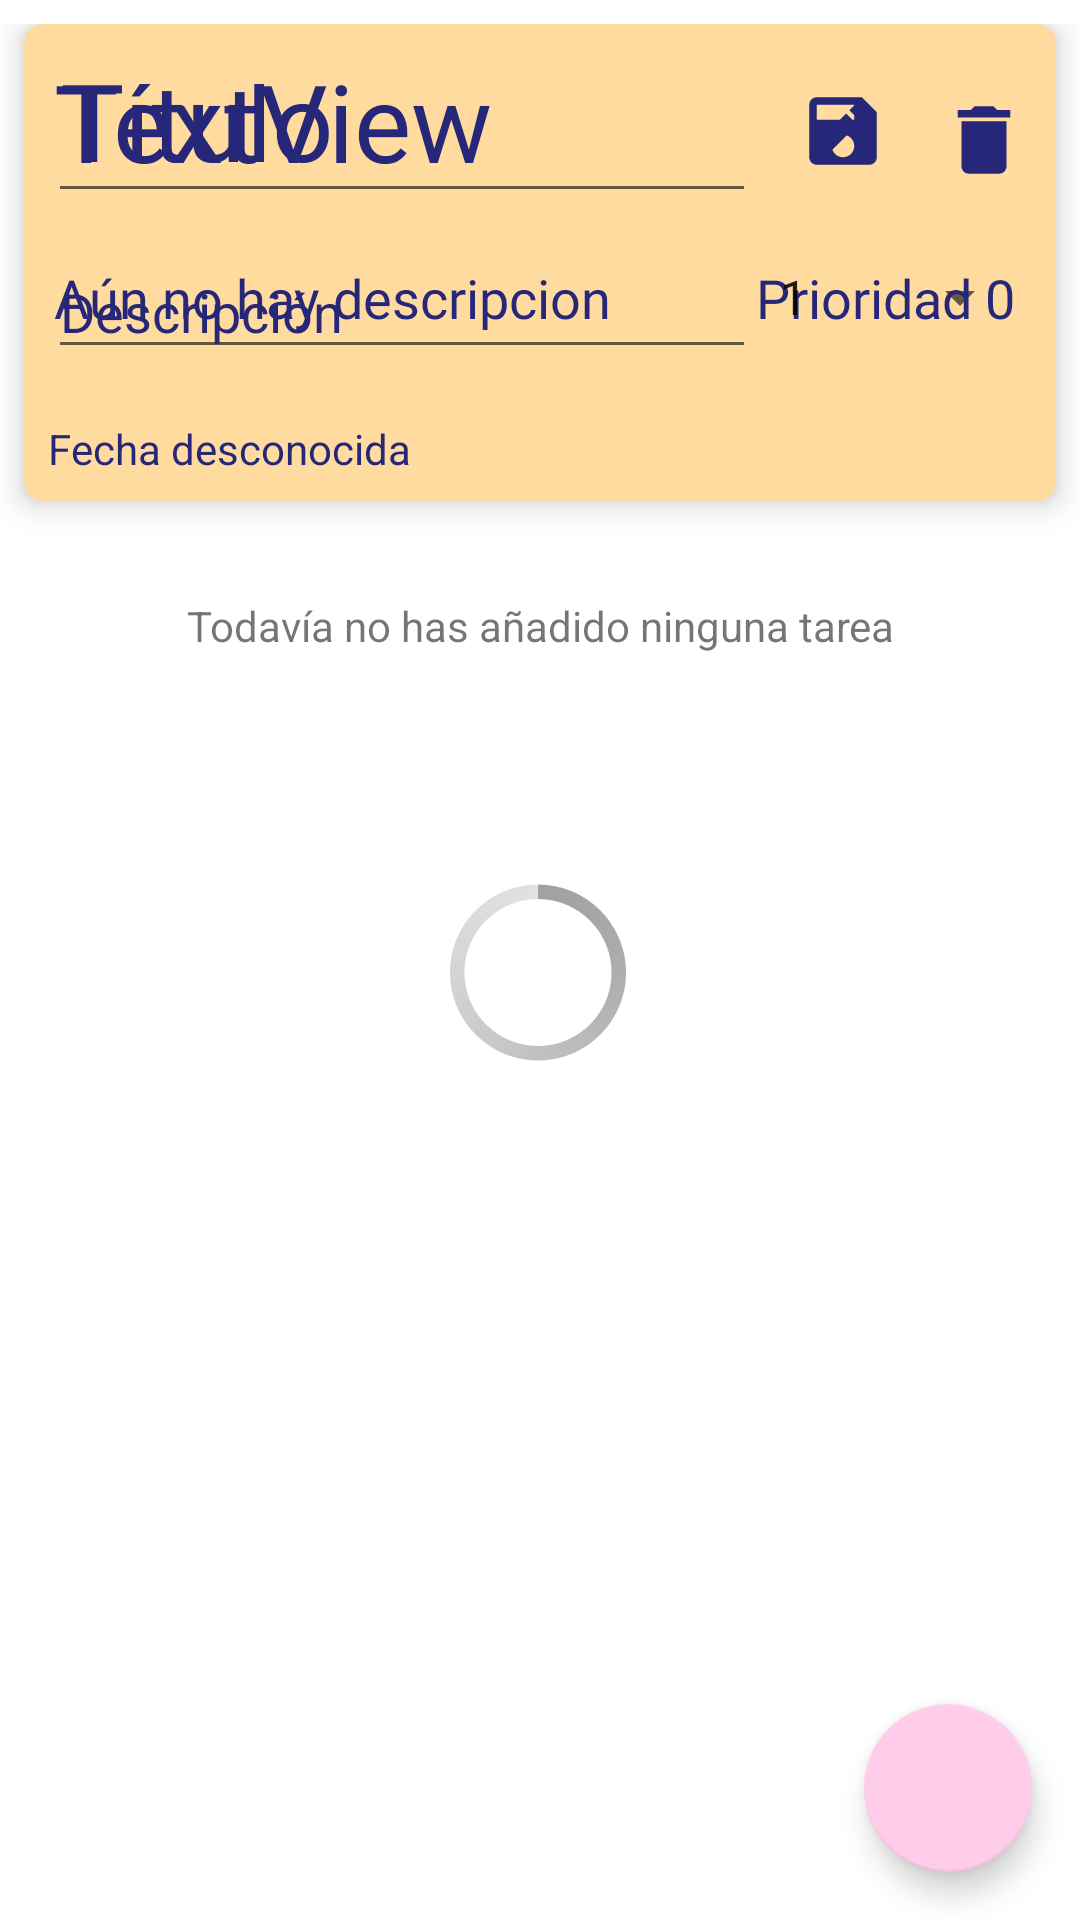

Icon click points for this 1080 x 1920 phone screenshot, format (x=x, y=y):
delete: (x=984, y=140)
